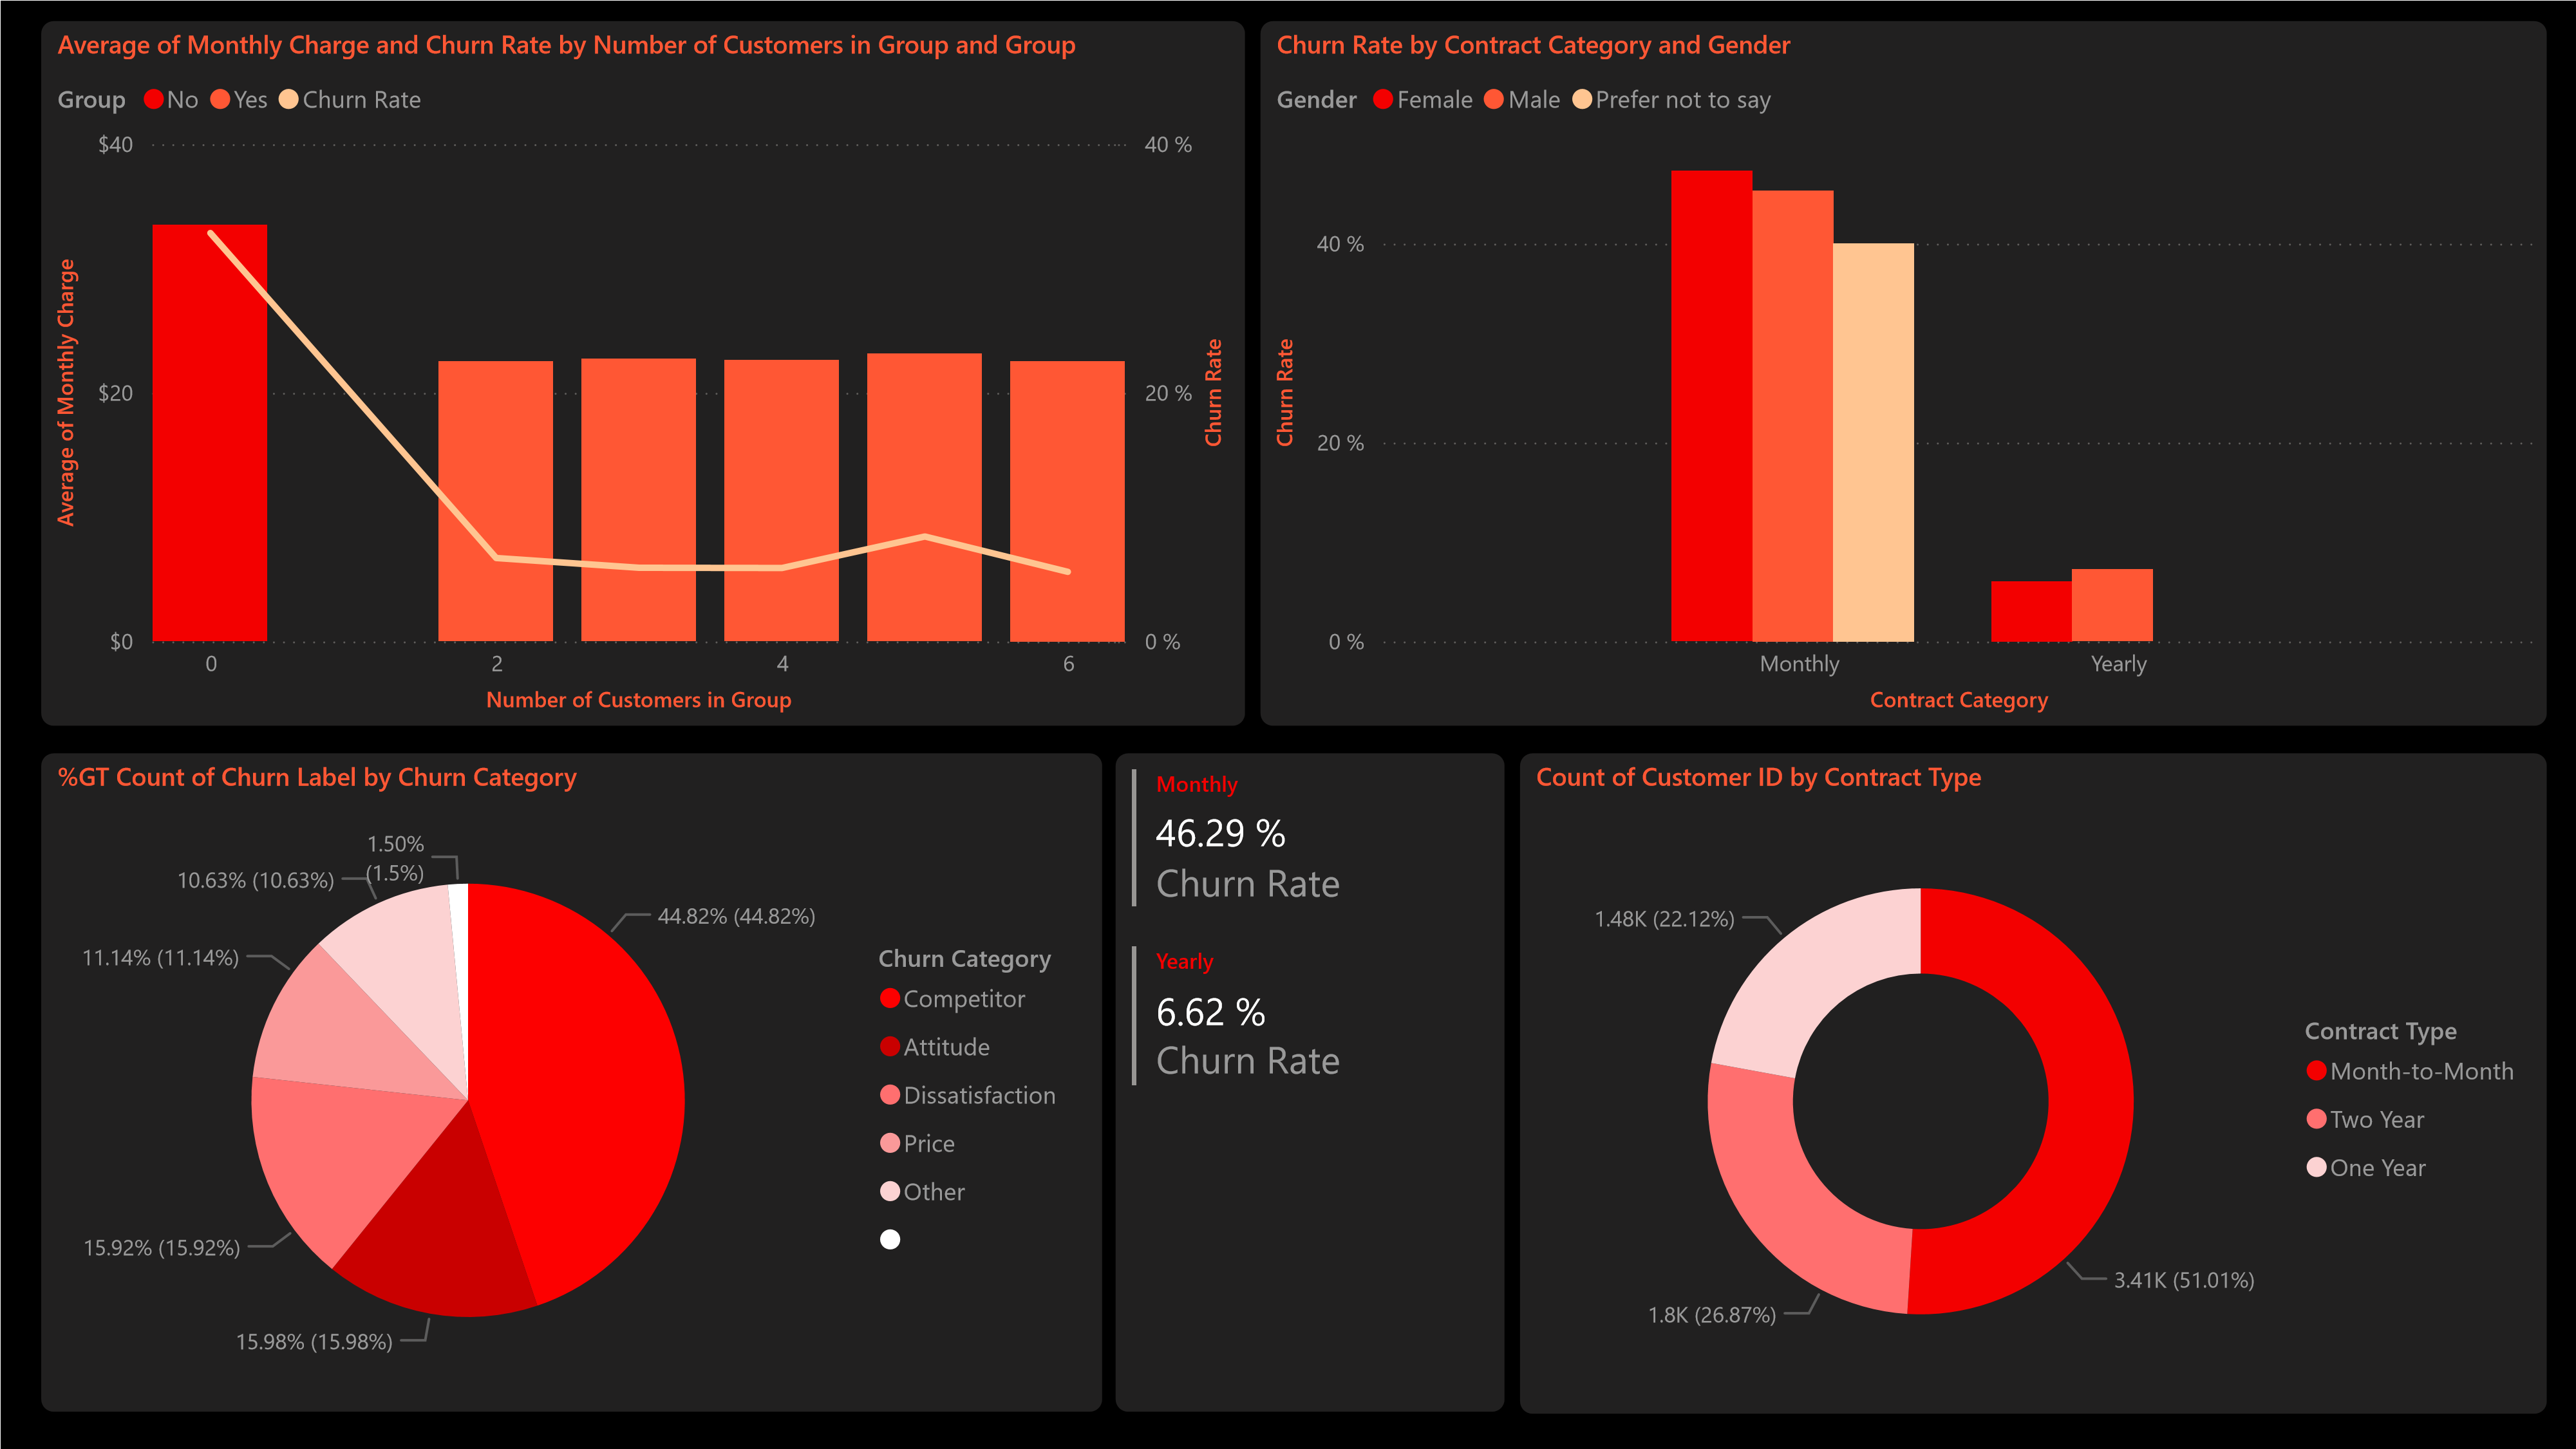

The dashboard page shown, as its layout file describes it:
{"tool":"powerbi","page":{"name":"Groups and Categories","canvas":[1280,720],"ordinal":1},"visuals":[{"type":"lineStackedColumnComboChart","fields":{"Category":["Databel - Data.Number of Customers in Group"],"Y":["Avg(Databel - Data.Monthly Charge)"],"Series":["Databel - Data.Group"],"Y2":["Databel - Data.Churn Rate"]},"box":[20.2,10.1,597.4,350.3],"z":0},{"type":"clusteredColumnChart","fields":{"Y":["Databel - Data.Churn Rate"],"Category":["Databel - Data.Contract Category"],"Series":["Databel - Data.Gender"]},"box":[625.7,10.1,638.9,350.3],"z":2000},{"type":"multiRowCard","fields":{"Values":["Databel - Data.Churn Rate","Databel - Data.Contract Category"]},"box":[553.8,373.6,193.4,327],"z":3000},{"type":"pieChart","fields":{"Category":["Databel - Data.Churn Category"],"Y":["CountNonNull(Databel - Data.Churn Label)"]},"box":[20.2,373.6,526.5,327],"z":4001},{"type":"donutChart","fields":{"Y":["Count(Databel - Data.Customer ID)"],"Category":["Databel - Data.Contract Type"]},"box":[755.3,373.6,509.3,328],"z":4002}]}

Visuals, with their boxes in screenshot pixels (x1, y1, x2, y2), scaled from the page's 1280x720 canvas onto the 2576x1449 screenshot:
lineStackedColumnComboChart - Databel - Data.Number of Customers in Group x Avg(Databel - Data.Monthly Charge): locate(41, 21, 1243, 725)
clusteredColumnChart - Databel - Data.Churn Rate x Databel - Data.Contract Category: locate(1259, 21, 2545, 725)
multiRowCard - Databel - Data.Churn Rate x Databel - Data.Contract Category: locate(1114, 752, 1504, 1410)
pieChart - Databel - Data.Churn Category x CountNonNull(Databel - Data.Churn Label): locate(41, 752, 1100, 1410)
donutChart - Count(Databel - Data.Customer ID) x Databel - Data.Contract Type: locate(1520, 752, 2545, 1412)
